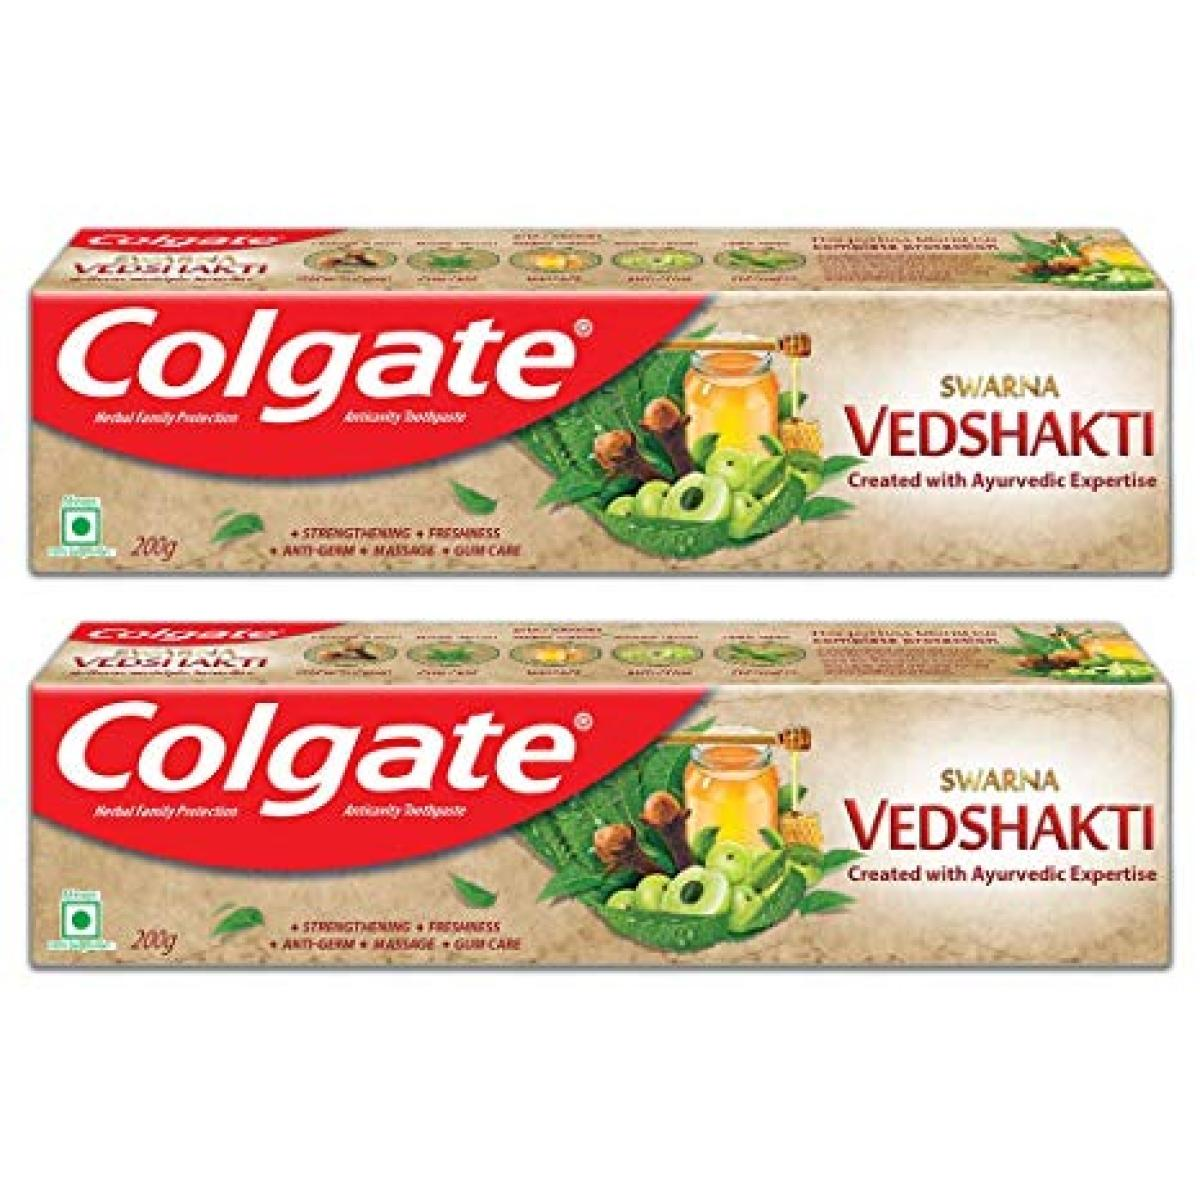toothpaste: (14, 187, 1197, 591), (27, 596, 1179, 1002)
